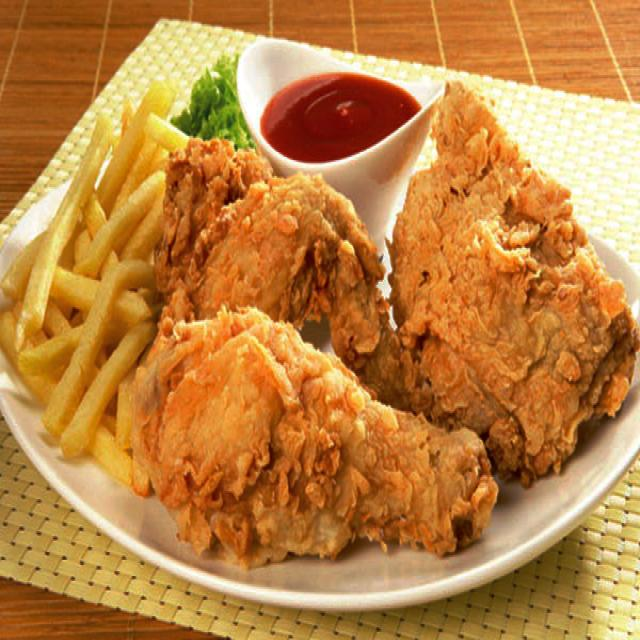fried_chicken: (132, 304, 495, 570), (396, 85, 637, 467), (0, 94, 202, 469), (164, 137, 381, 386)
